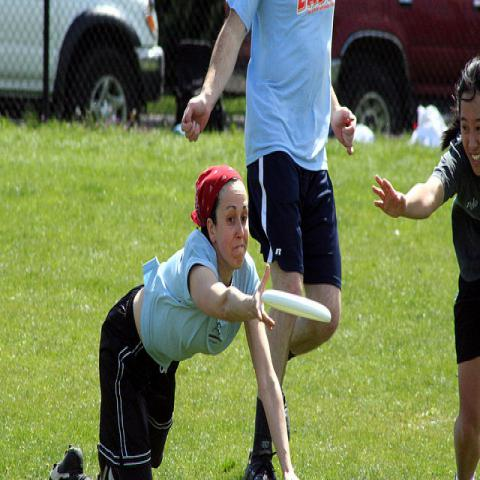truck: (0, 0, 167, 131), (331, 3, 479, 136)
